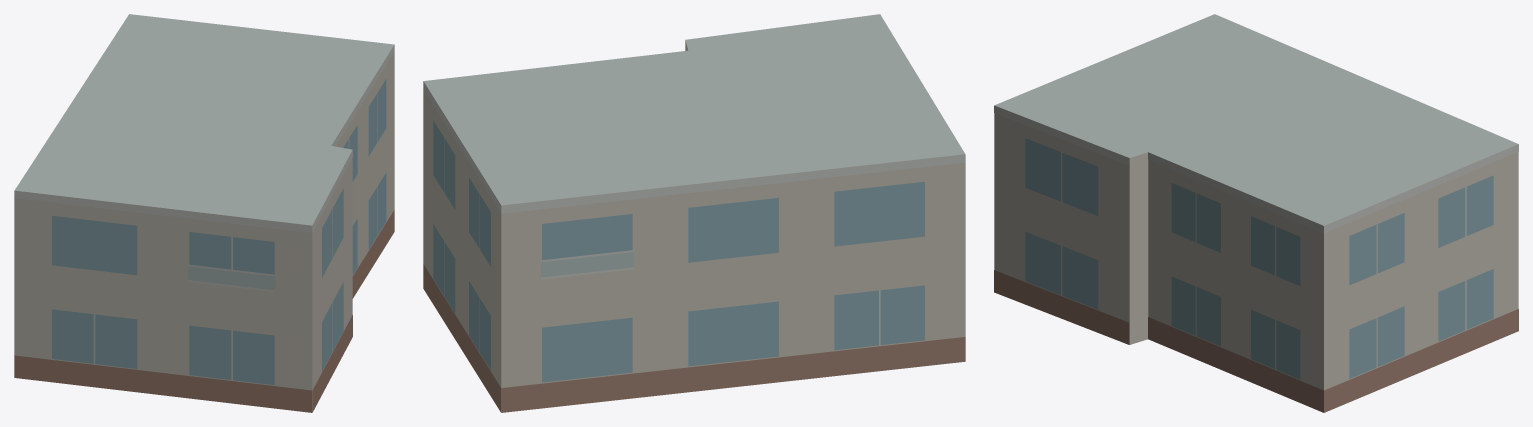
Rendered from survey-upis-32584613.glb.
The picture shows the model from 3 angles, left to right: view 1: azimuth 30°, elevation 25°; view 2: azimuth 150°, elevation 25°; view 3: azimuth 270°, elevation 25°; orthographic projection. The views are drawn at different scales.
Visible parts, largest first — view 1: survey-upis-32584613.tmp; view 2: survey-upis-32584613.tmp; view 3: survey-upis-32584613.tmp.
Part boxes in pixels (box(x1,y1,x2,y2)): survey-upis-32584613.tmp: box(14, 14, 394, 412); survey-upis-32584613.tmp: box(423, 14, 965, 412); survey-upis-32584613.tmp: box(994, 14, 1518, 412).
Size of the model in its own units: 14.83 by 6.1 by 15.51.
